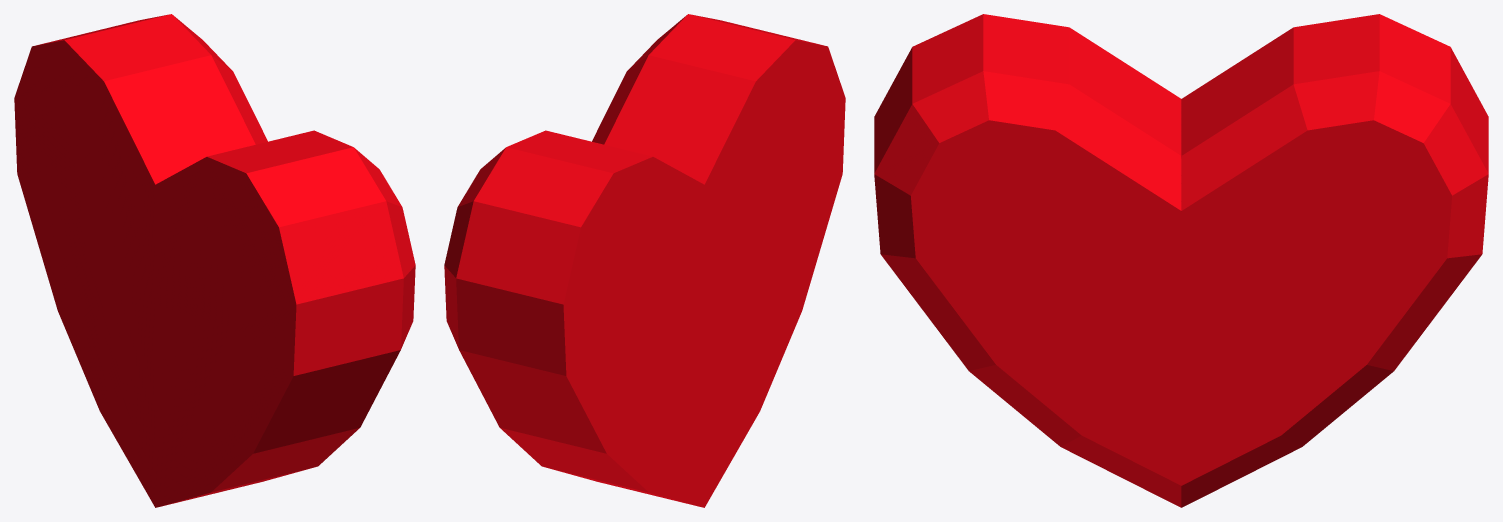
Rendered from corazon_r.fbx.
3 renders of one model, left to right at view 1: azimuth 30°, elevation 25°; view 2: azimuth 150°, elevation 25°; view 3: azimuth 270°, elevation 25°, orthographic. The views are drawn at different scales.
Parts seen in each view (by area): view 1: Cube; view 2: Cube; view 3: Cube.
Boxes of the visible parts, x1,y1,x2,y2 form: Cube: [14, 14, 415, 507]; Cube: [444, 14, 845, 507]; Cube: [874, 14, 1488, 507].
Size of the model in its own units: 76.32 by 215 by 274.
